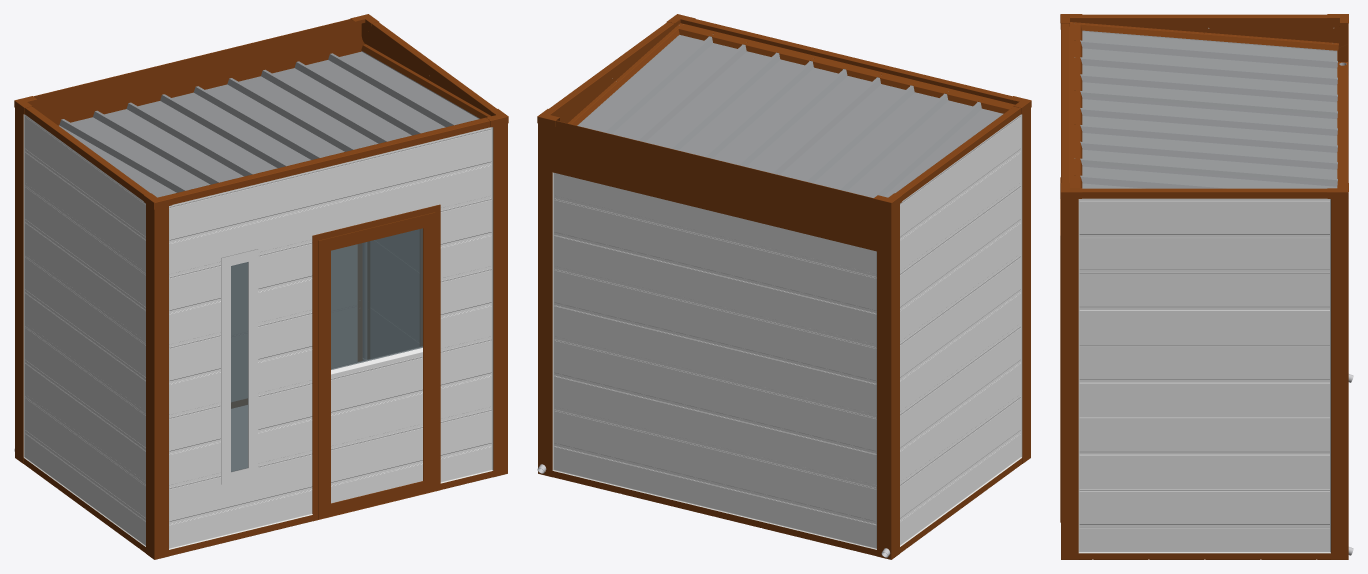
Rendered from garden_house.glb.
The picture shows the model from 3 angles, left to right: view 1: azimuth 30°, elevation 25°; view 2: azimuth 150°, elevation 25°; view 3: azimuth 270°, elevation 25°; orthographic projection. The views are drawn at different scales.
Visible parts, largest first — view 1: GardenHouse; view 2: GardenHouse; view 3: GardenHouse.
Boxes of the visible parts, <box> form: GardenHouse: <box>14,14,508,559</box>; GardenHouse: <box>537,14,1031,559</box>; GardenHouse: <box>1060,14,1353,559</box>.
Size of the model in its own units: 2.64 by 2.54 by 1.84.
